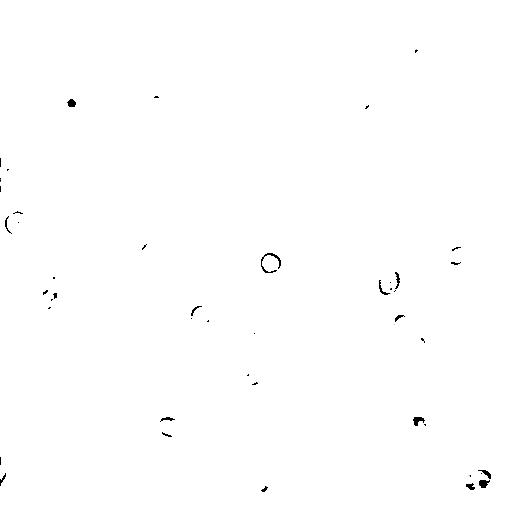micro-algae: (156, 367, 274, 494), (22, 88, 100, 165), (374, 31, 424, 75), (296, 0, 353, 25), (54, 85, 88, 118), (402, 29, 434, 64), (60, 232, 91, 267), (93, 68, 124, 101), (0, 154, 24, 194), (252, 468, 279, 502), (44, 264, 73, 293), (464, 465, 494, 493), (4, 209, 31, 236), (378, 268, 403, 296), (163, 297, 189, 323), (34, 286, 58, 314), (175, 479, 201, 504), (430, 342, 459, 364), (156, 414, 182, 438), (258, 251, 283, 275), (244, 364, 268, 388), (352, 87, 375, 111), (138, 239, 162, 262), (189, 303, 211, 328), (418, 324, 442, 346), (391, 312, 414, 334), (244, 319, 265, 343), (448, 245, 469, 267), (412, 413, 430, 433), (441, 359, 456, 376), (0, 457, 8, 485)
